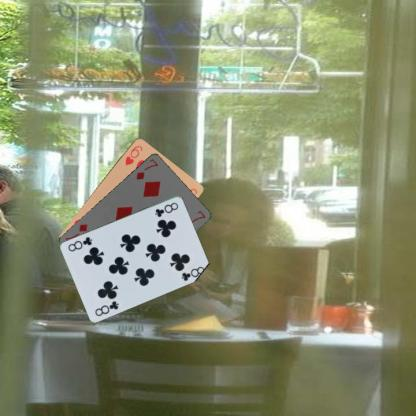6h: (122, 143, 144, 166)
7d: (134, 156, 160, 181)
8c: (93, 298, 120, 317), (152, 200, 180, 218)
